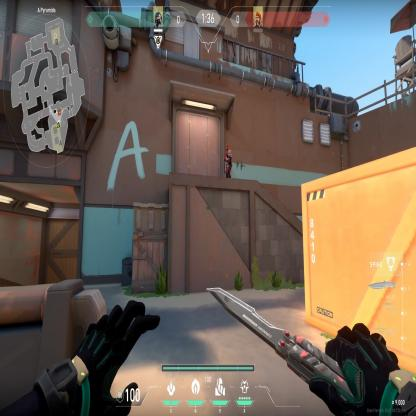enemy: (220, 141, 235, 181)
